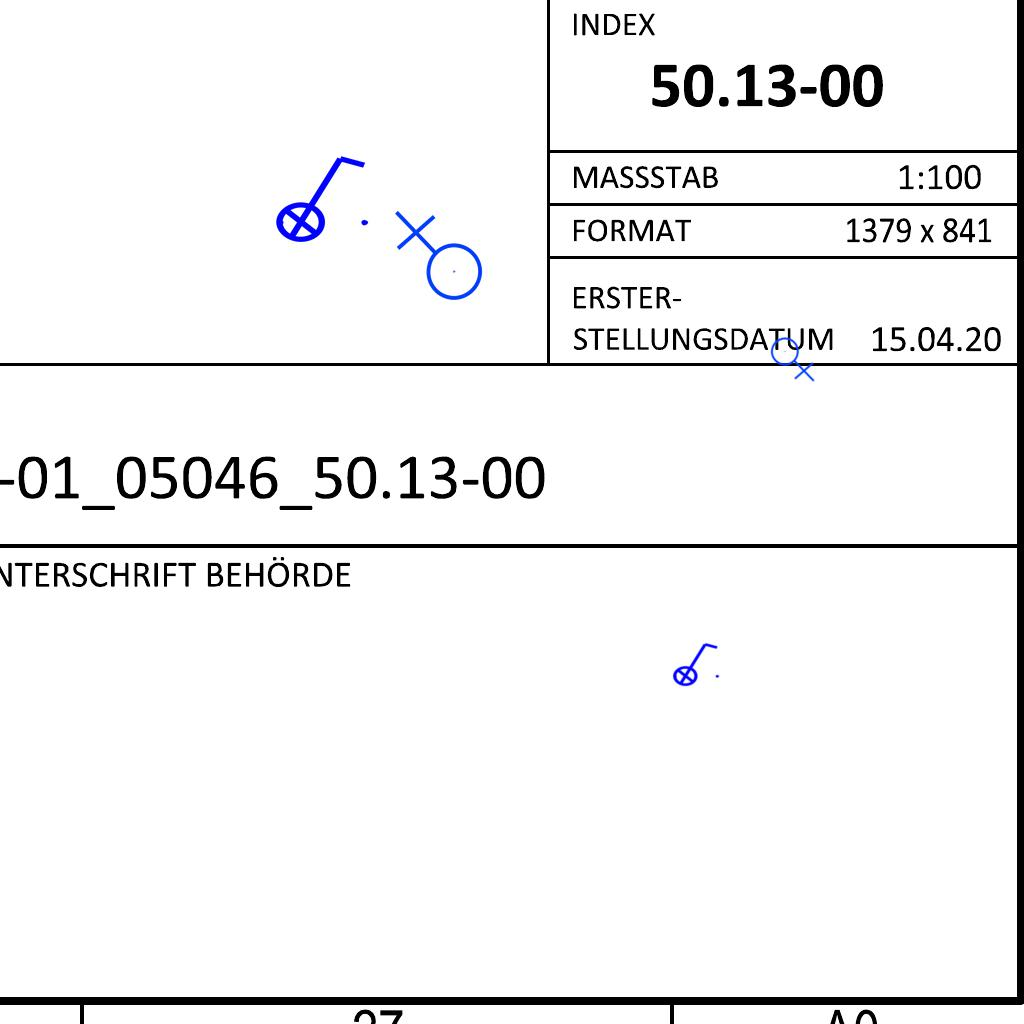Ausschalter_beleuchtet: (262, 148, 374, 244), (666, 639, 722, 687)
Elektroanschluss_allgemein_230V_Geraeteanschlussdose_230V: (390, 210, 484, 309), (770, 333, 817, 382)
